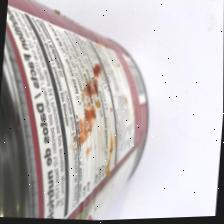metal: (0, 13, 163, 224)
